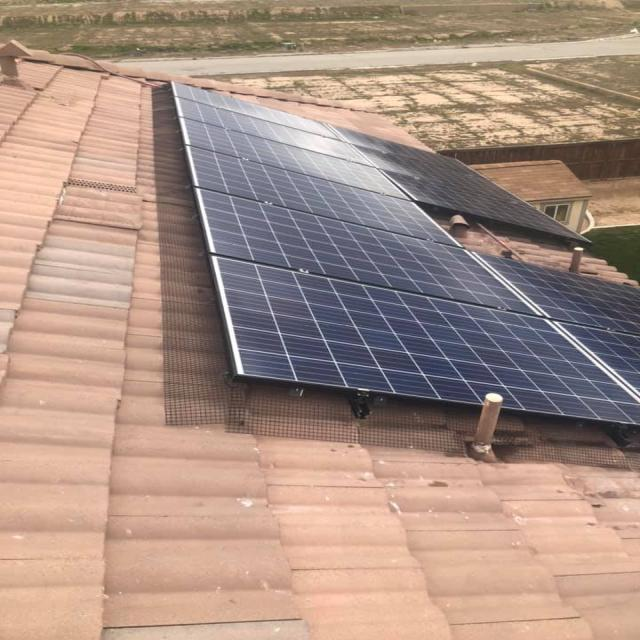clean-solar-panel: (175, 85, 638, 425)
